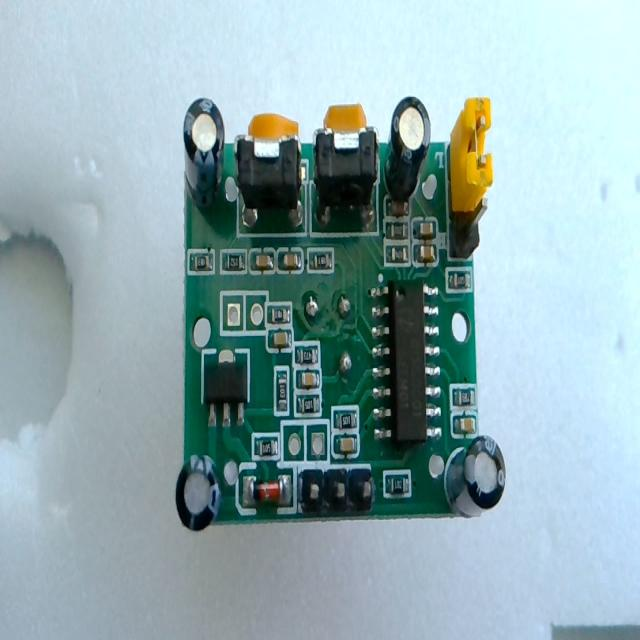Electrolytic capacitor: (384, 94, 431, 208), (444, 436, 506, 518), (183, 97, 225, 208), (174, 453, 222, 533)
IC: (370, 283, 443, 441)
pinheader: (297, 468, 375, 514)
